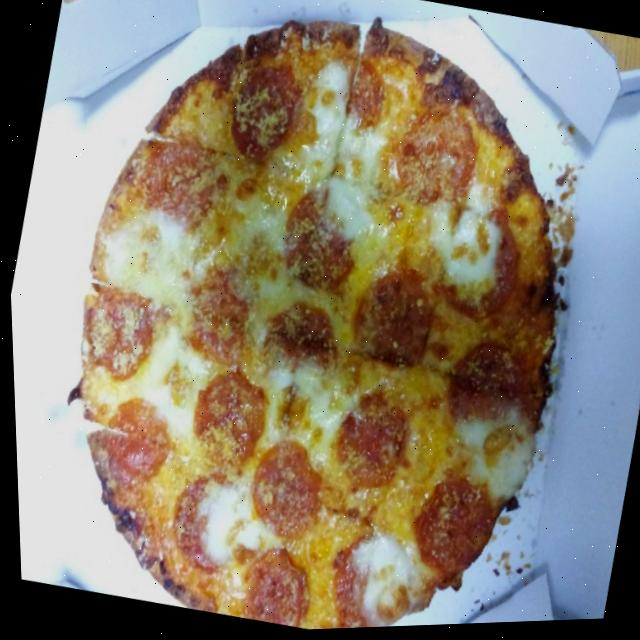汉堡快餐: (10, 0, 622, 640)
